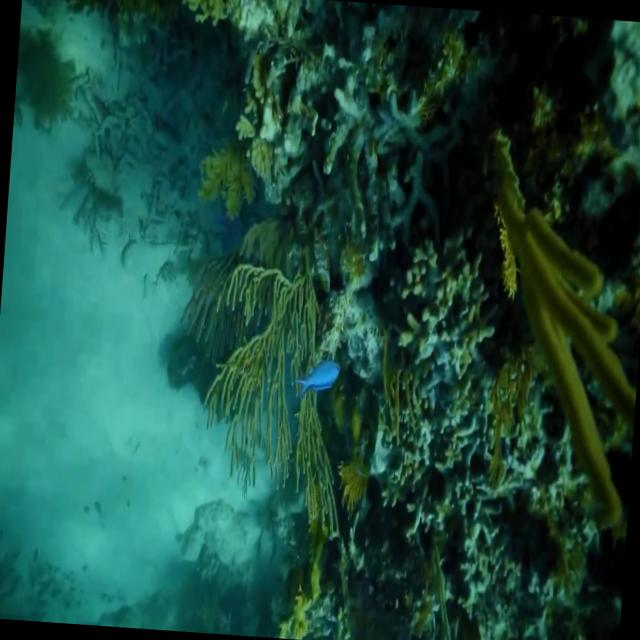fish: (284, 351, 350, 412)
